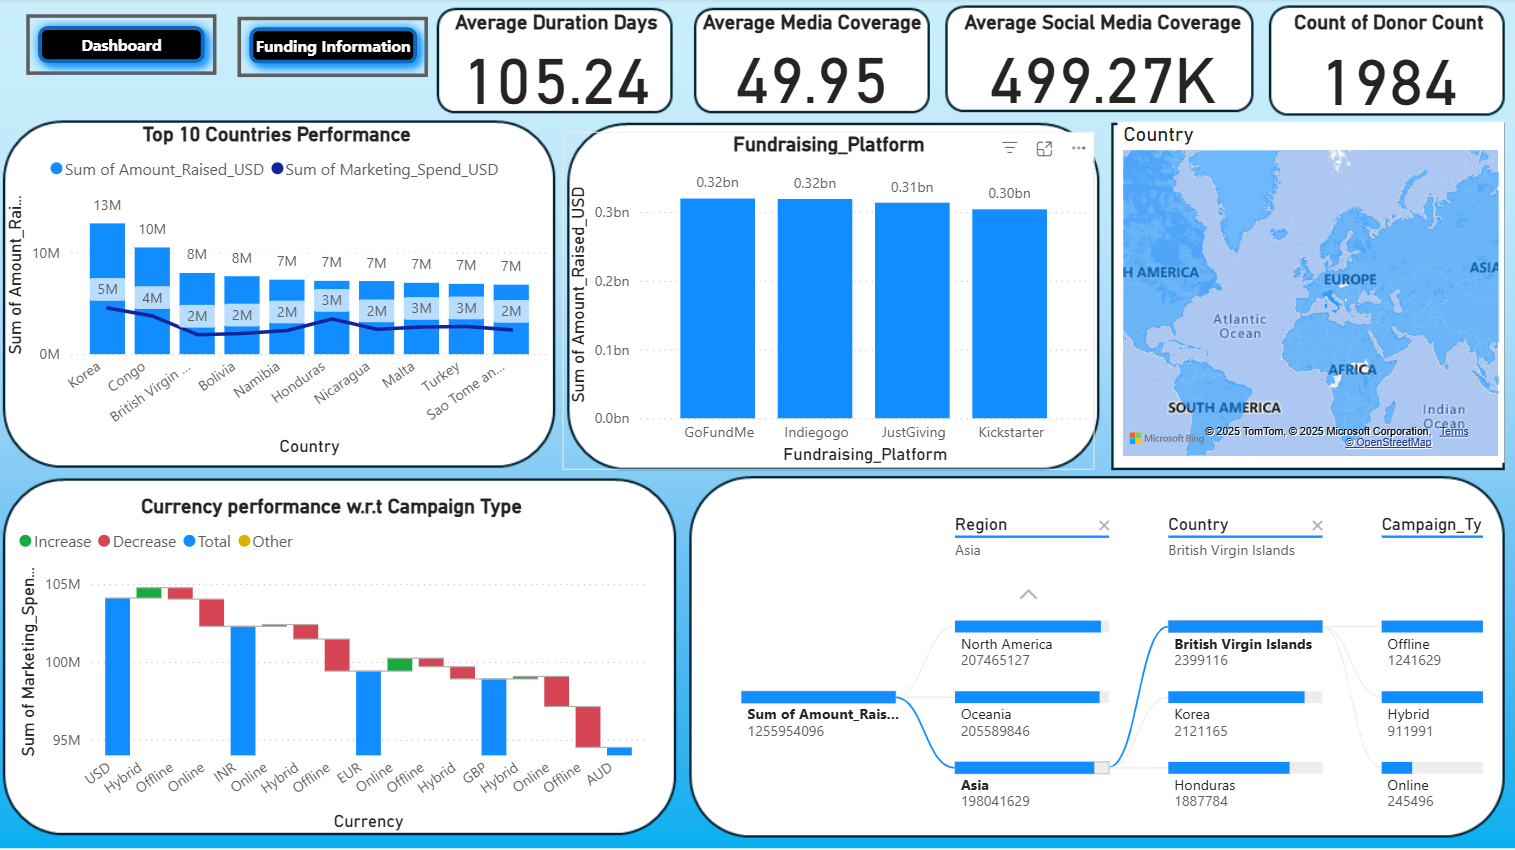

What the dashboard file says about the page in this screenshot:
{"tool":"powerbi","page":{"name":"Dashboard","canvas":[1280,720],"ordinal":0},"visuals":[{"type":"lineClusteredColumnComboChart","title":"Top 10 Countries Performance","fields":{"Category":["FundRaise_CompanyDataset.Country"],"Y":["Sum(FundRaise_CompanyDataset.Amount_Raised_USD)"],"Y2":["Sum(FundRaise_CompanyDataset.Marketing_Spend_USD)"]},"box":[0,104.4,467,286.8],"z":0},{"type":"columnChart","title":" Fundraising_Platform","fields":{"Category":["FundRaise_CompanyDataset.Fundraising_Platform"],"Y":["Sum(FundRaise_CompanyDataset.Amount_Raised_USD)"]},"box":[474.7,113.2,449.5,285.7],"z":1000},{"type":"filledMap","fields":{"Category":["FundRaise_CompanyDataset.Country"]},"box":[942.9,104.4,326.4,286.8],"z":2000},{"type":"waterfallChart","title":"Currency performance w.r.t Campaign Type","fields":{"Category":["FundRaise_CompanyDataset.Currency"],"Y":["Sum(FundRaise_CompanyDataset.Marketing_Spend_USD)"],"Breakdown":["FundRaise_CompanyDataset.Campaign_Type"]},"box":[11,418.7,538.5,289],"z":3000},{"type":"decompositionTreeVisual","fields":{"ExplainBy":["FundRaise_CompanyDataset.Region","FundRaise_CompanyDataset.Country","FundRaise_CompanyDataset.Campaign_Type","FundRaise_CompanyDataset.City","FundRaise_CompanyDataset.Category","FundRaise_CompanyDataset.Organizer_Name","FundRaise_CompanyDataset.Status","FundRaise_CompanyDataset.Sub_Region","FundRaise_CompanyDataset.Currency","FundRaise_CompanyDataset.Fundraising_Platform","FundRaise_CompanyDataset.External_Funding_Received"],"Analyze":["Sum(FundRaise_CompanyDataset.Amount_Raised_USD)"]},"box":[595.6,418.7,660.4,289],"z":4000},{"type":"card","title":"Count of Donor Count","fields":{"Values":["Count(FundRaise_CompanyDataset.Donor_Count)"]},"box":[1073.3,10.5,196.5,88.4],"z":5000},{"type":"card","title":"Average Social Media Coverage","fields":{"Values":["Avg(FundRaise_CompanyDataset.Social_Media_Reach)"]},"box":[802.3,10.5,255.8,86],"z":6000},{"type":"card","title":"Average Media Coverage","fields":{"Values":["Avg(FundRaise_CompanyDataset.Media_Coverage_Score)"]},"box":[584.9,10.5,200,86],"z":7000},{"type":"card","title":"Average Duration Days","fields":{"Values":["Avg(FundRaise_CompanyDataset.Duration_Days)"]},"box":[372.1,10.5,194.2,87.2],"z":8000},{"type":"actionButton","box":[22.1,14,160.5,51.2],"z":9000},{"type":"shape","box":[22.1,14,160.5,51.2],"z":10000},{"type":"actionButton","box":[200.8,16.1,160.7,50.9],"z":11000},{"type":"shape","box":[200,14.3,161.5,50.5],"z":12000},{"type":"actionButton","box":[0,0,100,40],"z":13000}]}

Visuals, with their boxes in screenshot pixels (x1, y1, x2, y2), scaled from the page's 1280x720 canvas onto the 1515x850 screenshot:
"Top 10 Countries Performance" lineClusteredColumnComboChart: 0,123,553,462
" Fundraising_Platform" columnChart: 562,134,1094,471
filledMap - FundRaise_CompanyDataset.Country: 1116,123,1502,462
"Currency performance w.r.t Campaign Type" waterfallChart: 13,494,650,835
decompositionTreeVisual - FundRaise_CompanyDataset.Region x FundRaise_CompanyDataset.Country: 705,494,1487,835
"Count of Donor Count" card: 1270,12,1503,117
"Average Social Media Coverage" card: 950,12,1252,114
"Average Media Coverage" card: 692,12,929,114
"Average Duration Days" card: 440,12,670,115
actionButton: 26,17,216,77
shape: 26,17,216,77
actionButton: 238,19,428,79
shape: 237,17,428,76
actionButton: 0,0,118,47
